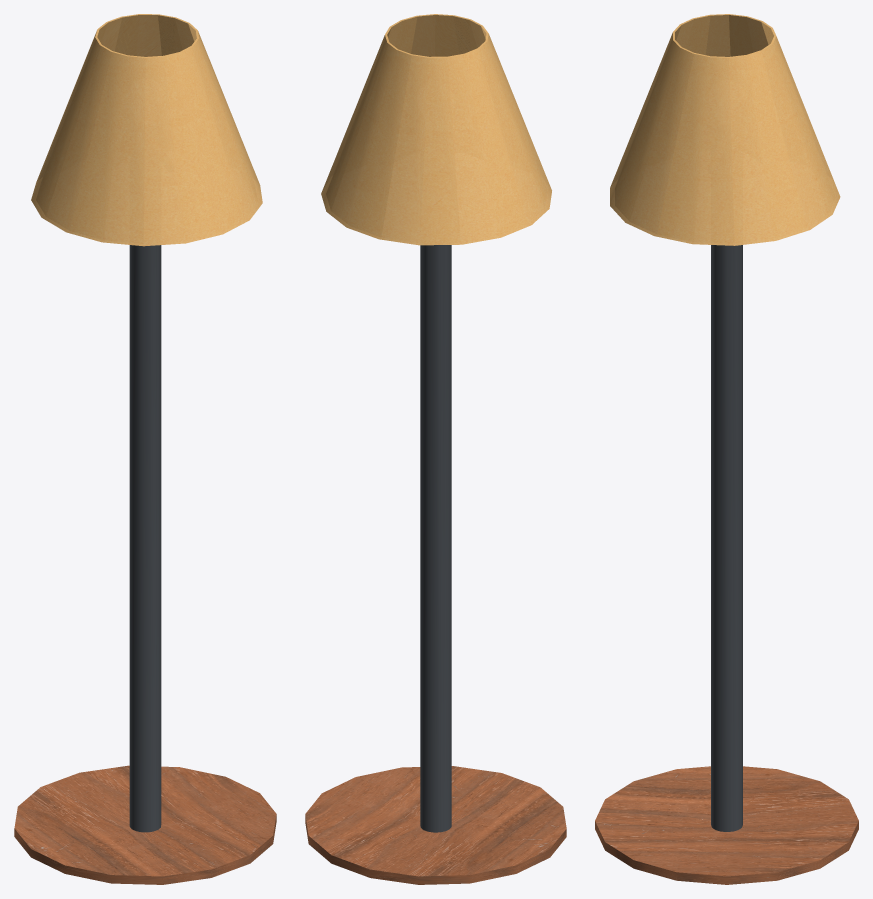
Rendered from Lampara.fbx.
The picture shows the model from 3 angles, left to right: view 1: azimuth 30°, elevation 25°; view 2: azimuth 150°, elevation 25°; view 3: azimuth 270°, elevation 25°; orthographic projection.
Visible parts, largest first — view 1: Base, Pantalla Lampara; view 2: Base, Pantalla Lampara; view 3: Base, Pantalla Lampara.
Part boxes in pixels (x1,y1,x2,y2): Base: (14, 245, 276, 884); Pantalla Lampara: (31, 14, 262, 246); Base: (305, 245, 566, 884); Pantalla Lampara: (321, 14, 551, 245); Base: (595, 245, 858, 884); Pantalla Lampara: (610, 14, 840, 245).
Bounding box in the file's own units: 138 × 460 × 138.
4 materials, 3 textured.
